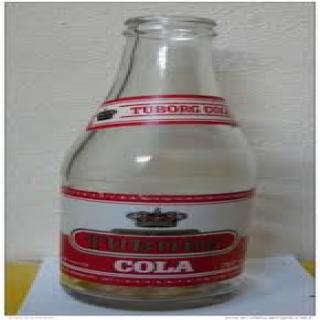GLASS: (41, 8, 261, 306)
